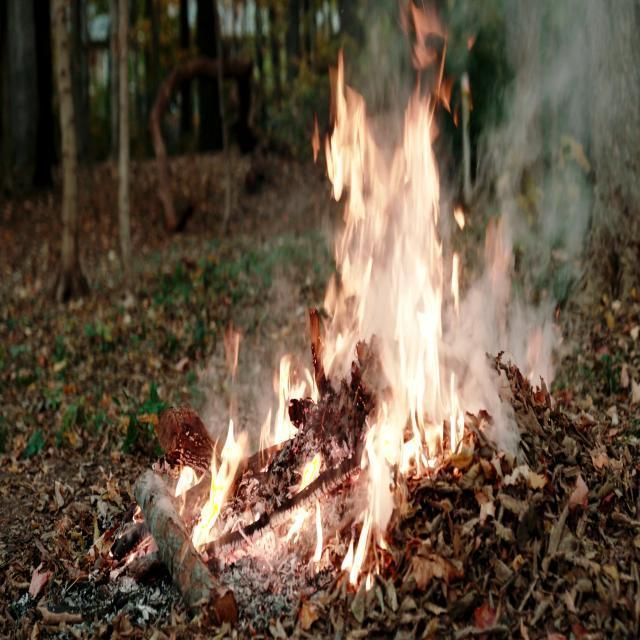Fire: (266, 44, 486, 592), (176, 402, 258, 566)
Smoke: (475, 0, 640, 402)
